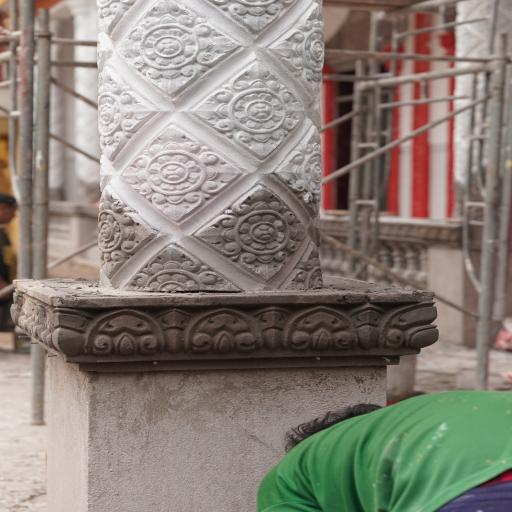hoa: (187, 55, 321, 163), (106, 124, 249, 218), (190, 188, 320, 278), (112, 2, 232, 92), (70, 62, 154, 164), (264, 1, 347, 95), (114, 239, 239, 296), (92, 183, 156, 282), (273, 125, 337, 219), (206, 0, 294, 40), (274, 240, 337, 292)
la: (73, 296, 171, 356), (173, 304, 275, 354), (276, 301, 360, 356), (372, 296, 444, 352)
